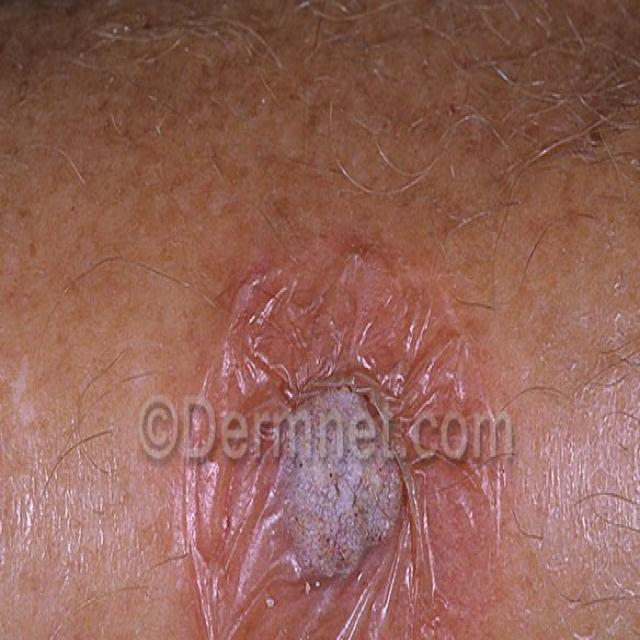Warts: (150, 216, 508, 640)
